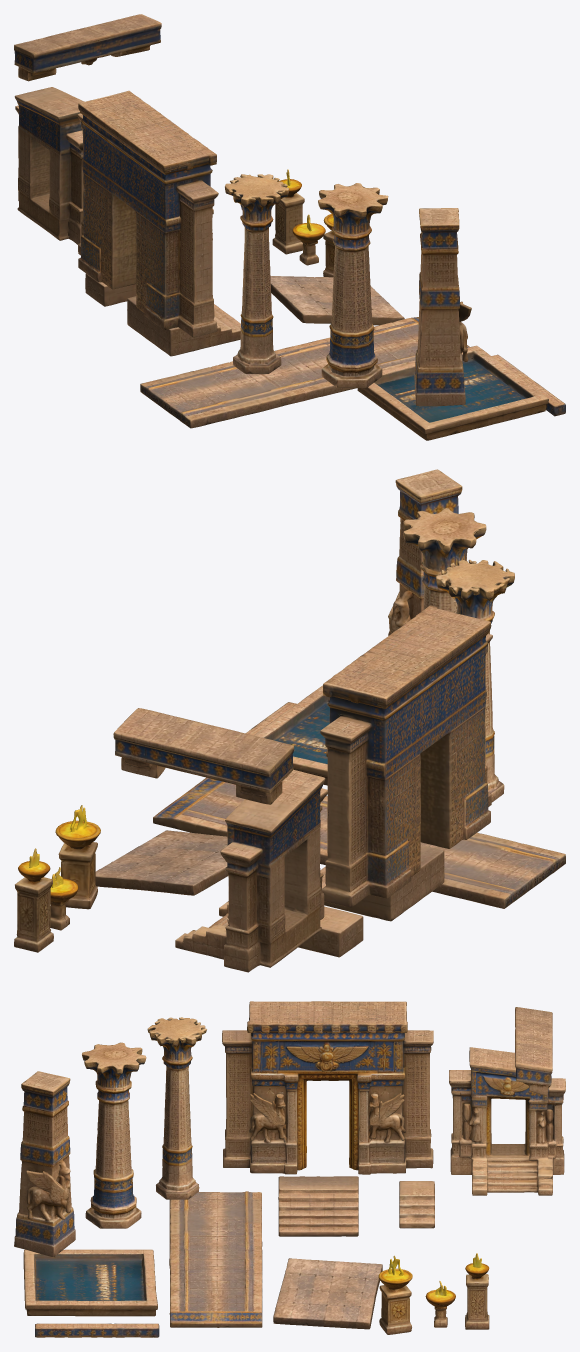
File: اثاث قاعة الاعمدة.glb
3 views of the same model, one above another, from view 1: azimuth 30°, elevation 25°; view 2: azimuth 150°, elevation 25°; view 3: azimuth 270°, elevation 25° (orthographic). The views are drawn at different scales.
Parts seen in each view (by area): view 1: world; view 2: world; view 3: world.
Part boxes in pixels (<box>): world: <box>14,14,565,440</box>; world: <box>14,469,565,972</box>; world: <box>14,1001,565,1337</box>.
Bounding box in the file's own units: 0.5754 × 0.4296 × 0.9997.
Materials: 1 (1 with a texture image).
